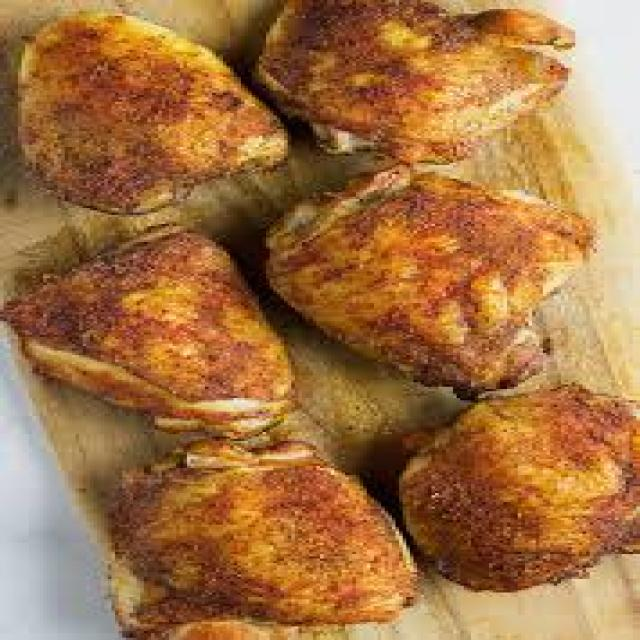Frango: (7, 14, 640, 618)
